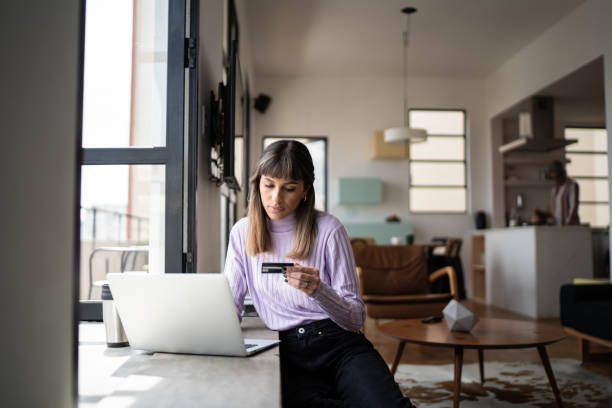without mask: (252, 164, 309, 221)
